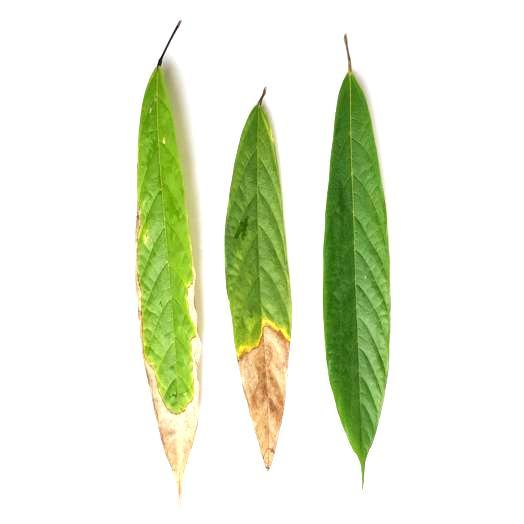Healthy Leaf: (323, 36, 389, 482)
Potassium: (136, 23, 200, 489), (226, 89, 290, 468)
